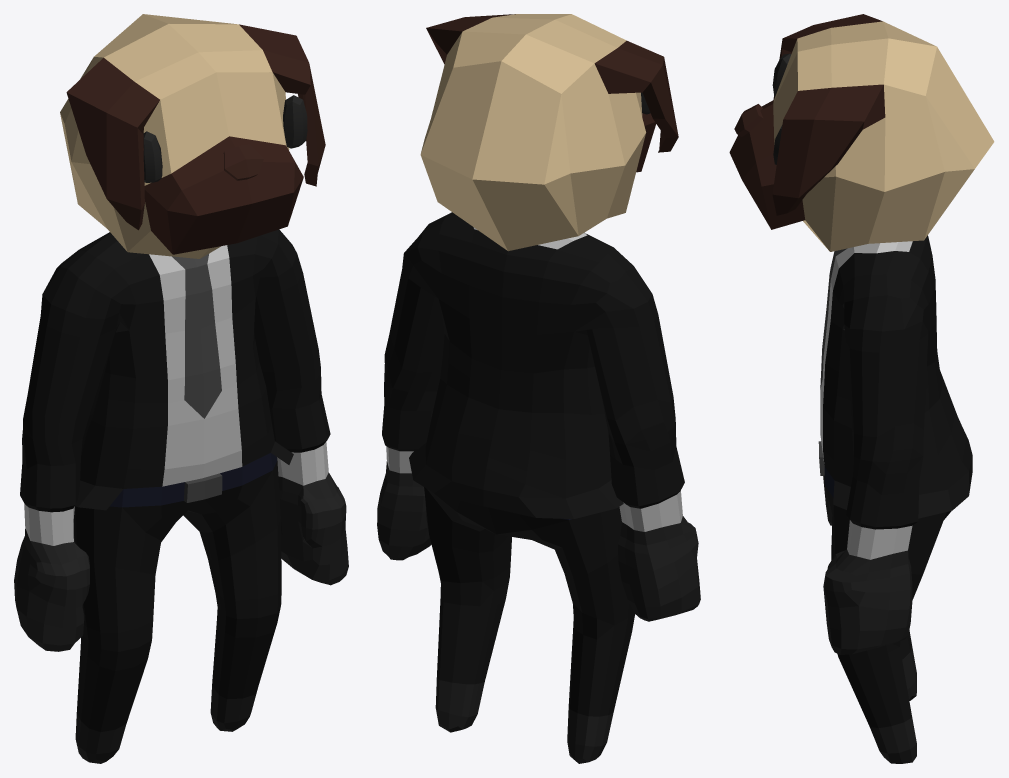
The model's file is pug-1fc9a4f1ba.glb.
3 views of the same model, side by side, from view 1: azimuth 30°, elevation 25°; view 2: azimuth 150°, elevation 25°; view 3: azimuth 270°, elevation 25° (orthographic). The views are drawn at different scales.
Parts seen in each view (by area): view 1: Pug.obj; view 2: Pug.obj; view 3: Pug.obj.
Boxes of the visible parts, <box> form: Pug.obj: <box>14,14,348,763</box>; Pug.obj: <box>377,14,700,763</box>; Pug.obj: <box>729,14,994,763</box>.
Size of the model in its own units: 1.29 by 2.79 by 0.9679.
